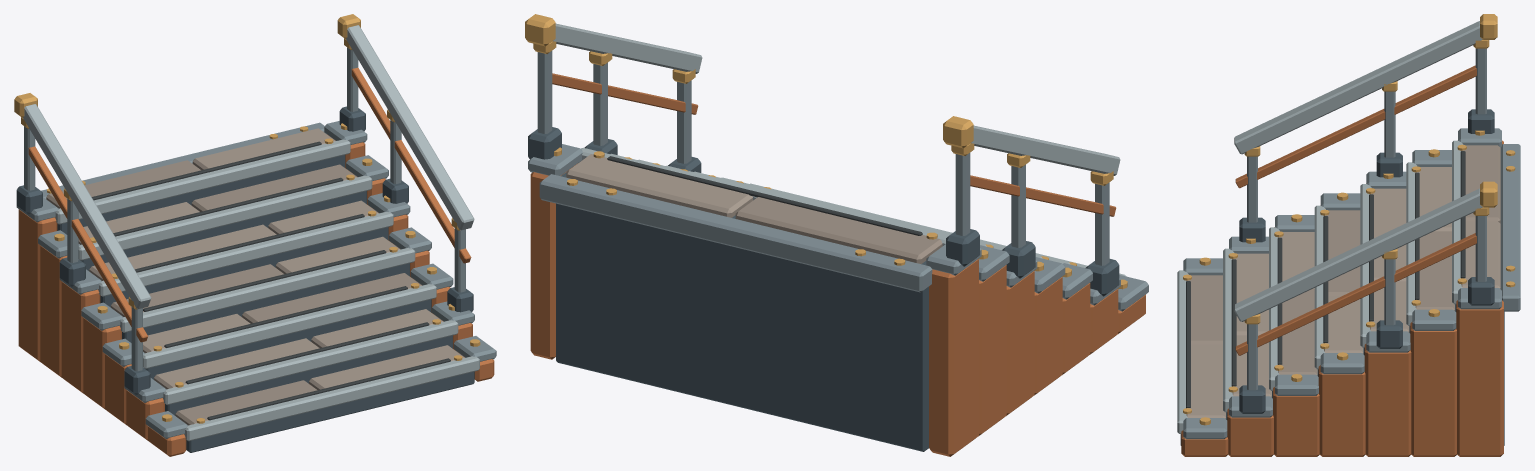
File: wsc-prop-060-east-stair-kit.glb
3 views of the same model, side by side, from view 1: azimuth 30°, elevation 25°; view 2: azimuth 150°, elevation 25°; view 3: azimuth 270°, elevation 25° (orthographic). The views are drawn at different scales.
Visible parts, largest first — view 1: wsc-prop-060-east-stair-kit; view 2: wsc-prop-060-east-stair-kit; view 3: wsc-prop-060-east-stair-kit.
Boxes of the visible parts, bbox=[...] form: wsc-prop-060-east-stair-kit: bbox=[14, 14, 496, 456]; wsc-prop-060-east-stair-kit: bbox=[525, 14, 1148, 456]; wsc-prop-060-east-stair-kit: bbox=[1177, 14, 1520, 456].
Size of the model in its own units: 3.16 by 2.26 by 2.59.
